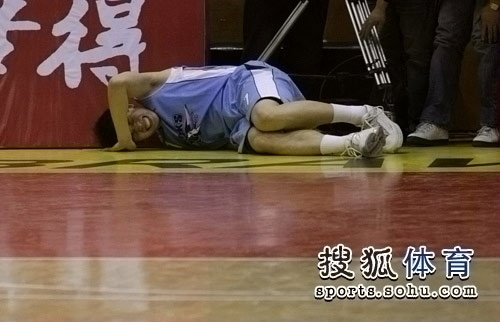falling: (92, 48, 405, 169)
